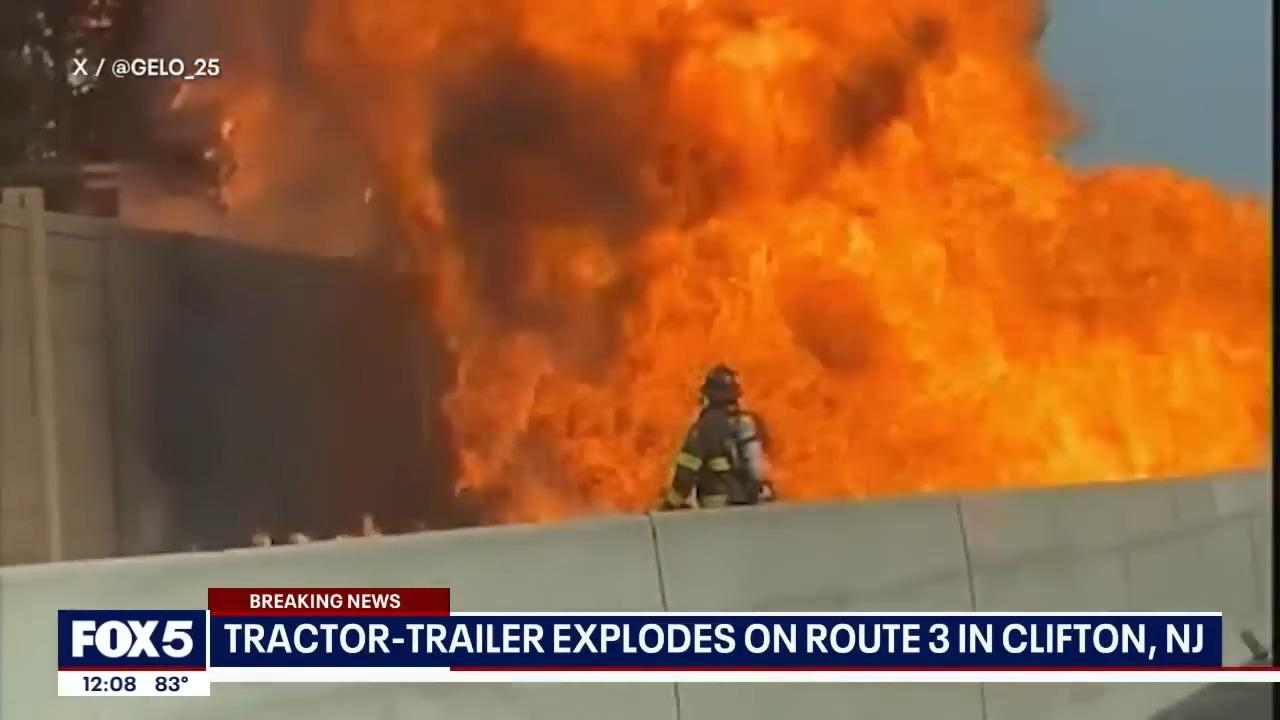fire: (390, 1, 1277, 357), (436, 214, 654, 510), (779, 366, 1276, 479)
